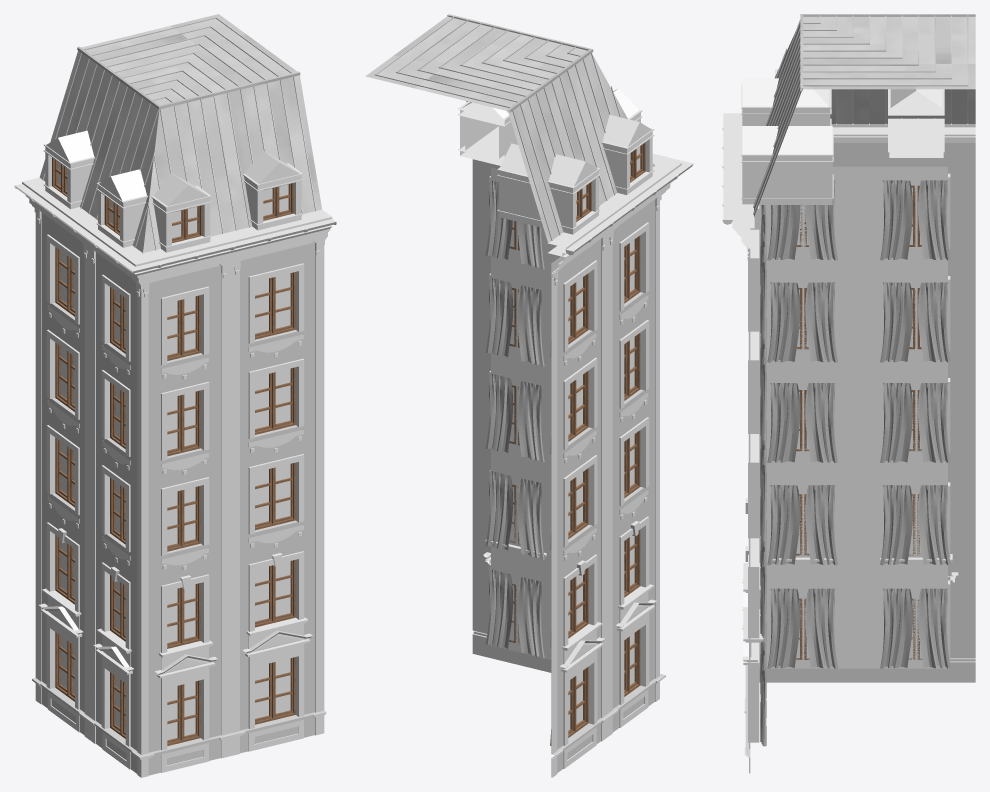
The model's file is Facade_Top_Corner.fbx.
3 renders of one model, left to right at view 1: azimuth 30°, elevation 25°; view 2: azimuth 150°, elevation 25°; view 3: azimuth 270°, elevation 25°, orthographic. The views are drawn at different scales.
Parts seen in each view (by area): view 1: Facade_Top_Corner; view 2: Facade_Top_Corner; view 3: Facade_Top_Corner.
Boxes of the visible parts, bbox=[...] form: Facade_Top_Corner: bbox=[14, 14, 336, 777]; Facade_Top_Corner: bbox=[365, 14, 693, 777]; Facade_Top_Corner: bbox=[722, 14, 975, 773].
Bounding box in the file's own units: 6.23 × 18.72 × 6.23.
